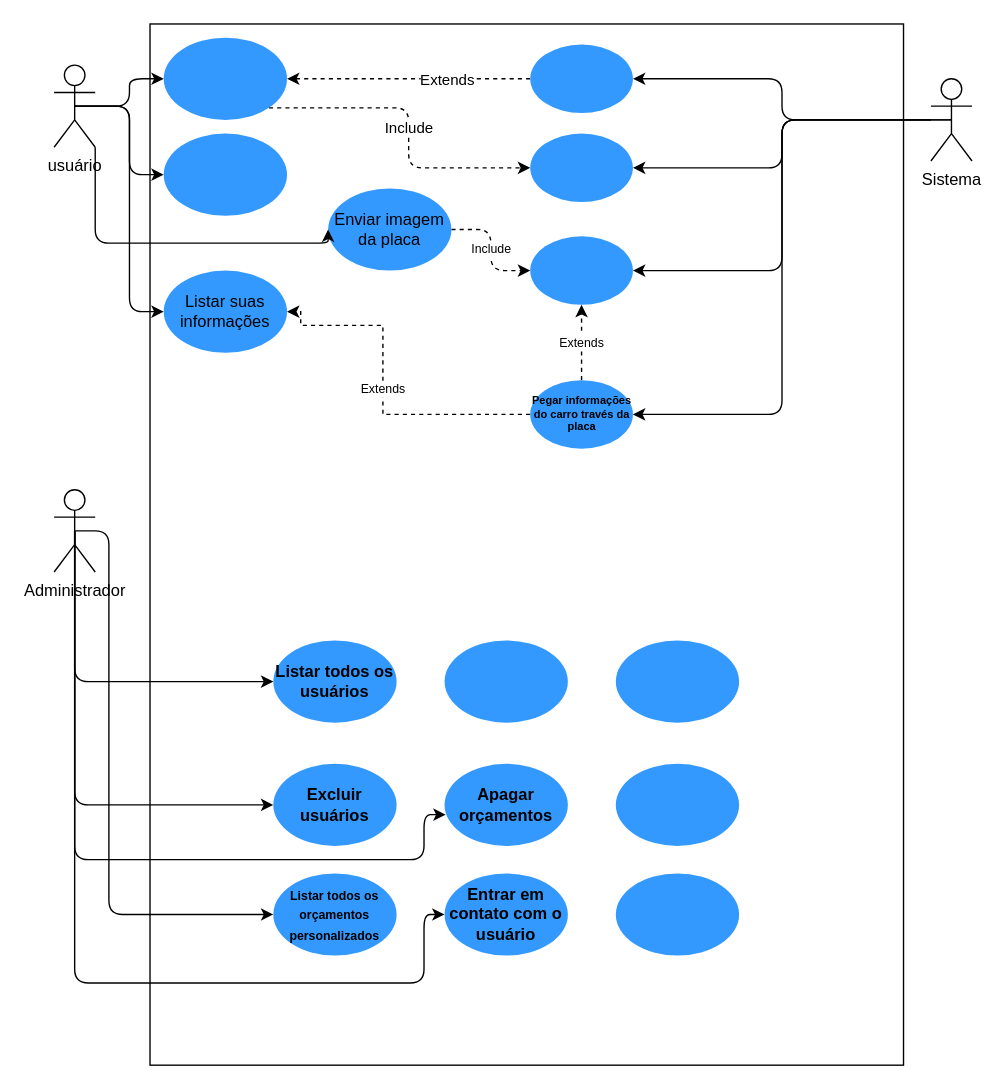
The diagram is 1004 pixels wide and 1089 high, and some of its shapes have lost their labels. The shapes that lost their labels are listed below. From the top down, each one's centre as x and y in pixels, then its label:
point 224,78: Login
point 581,78: Criar conta
point 224,174: Listar orçamentos
point 581,167: Validar acesso
point 581,270: Pegar valor da placa
